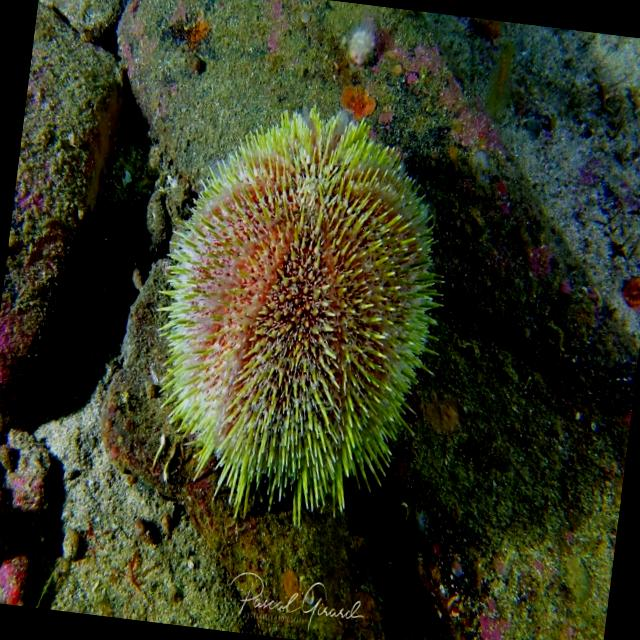Deniz Kestanesi: (128, 90, 466, 538)
